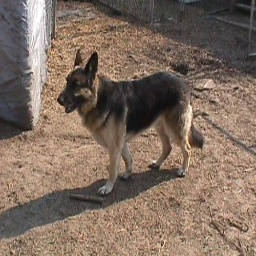dog: (54, 44, 203, 198)
